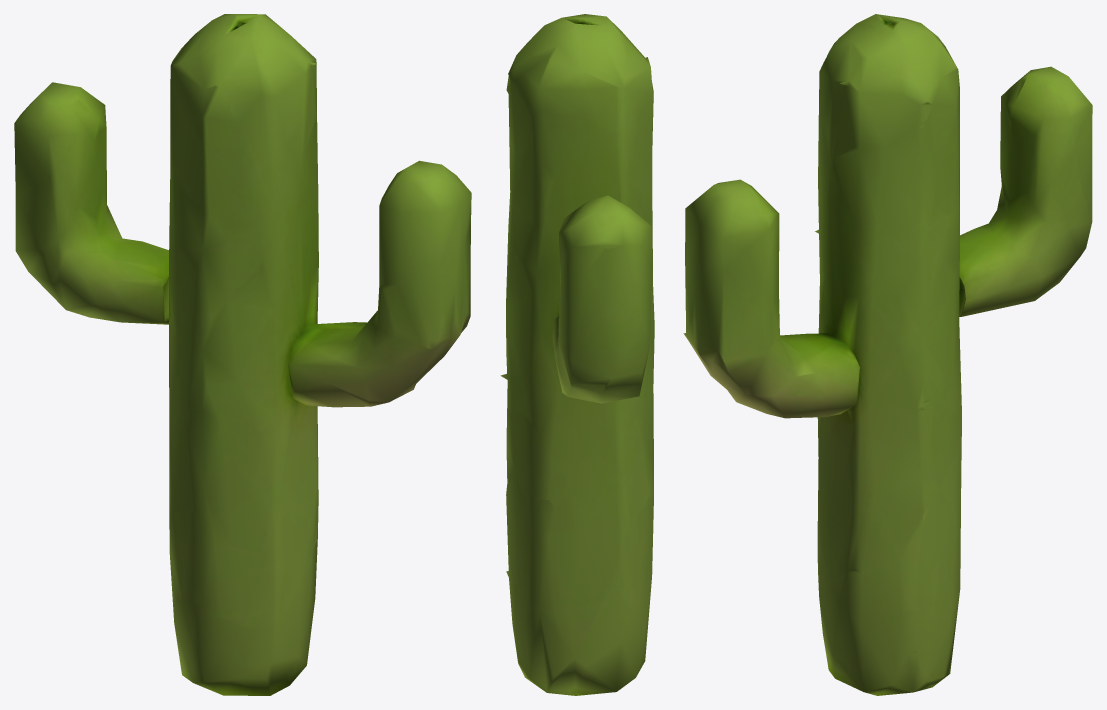
Rendered from cactus.glb.
The picture shows the model from 3 angles, left to right: view 1: azimuth 30°, elevation 25°; view 2: azimuth 150°, elevation 25°; view 3: azimuth 270°, elevation 25°; orthographic projection.
Visible parts, largest first — view 1: cactus-0; view 2: cactus-0; view 3: cactus-0.
Boxes of the visible parts, x1,y1,x2,y2 form: cactus-0: (14,14,471,695); cactus-0: (500,14,654,695); cactus-0: (683,14,1092,695).
Bounding box in the file's own units: 0.4623 × 1 × 0.5692.
Materials: 1 (1 with a texture image).
